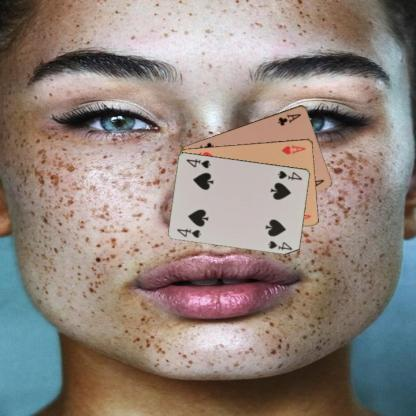4s: (274, 168, 304, 182), (174, 225, 202, 239)
Ac: (275, 111, 302, 127)
Ah: (280, 142, 307, 156)
